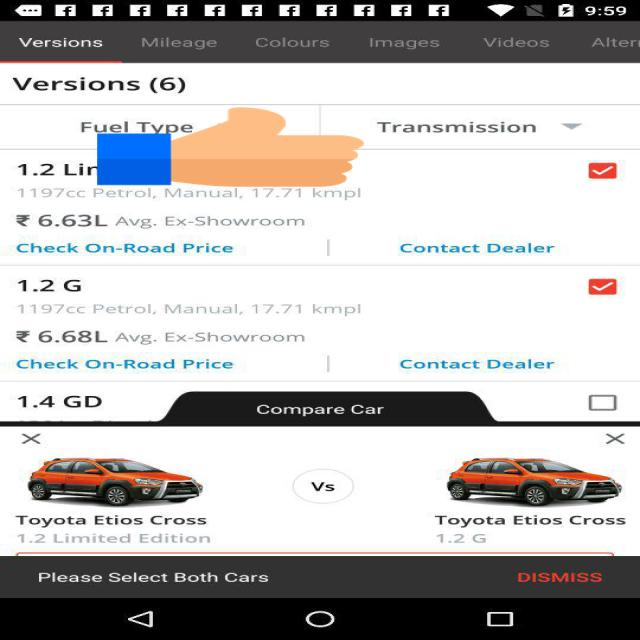privacy zuckering: (97, 105, 364, 189)
